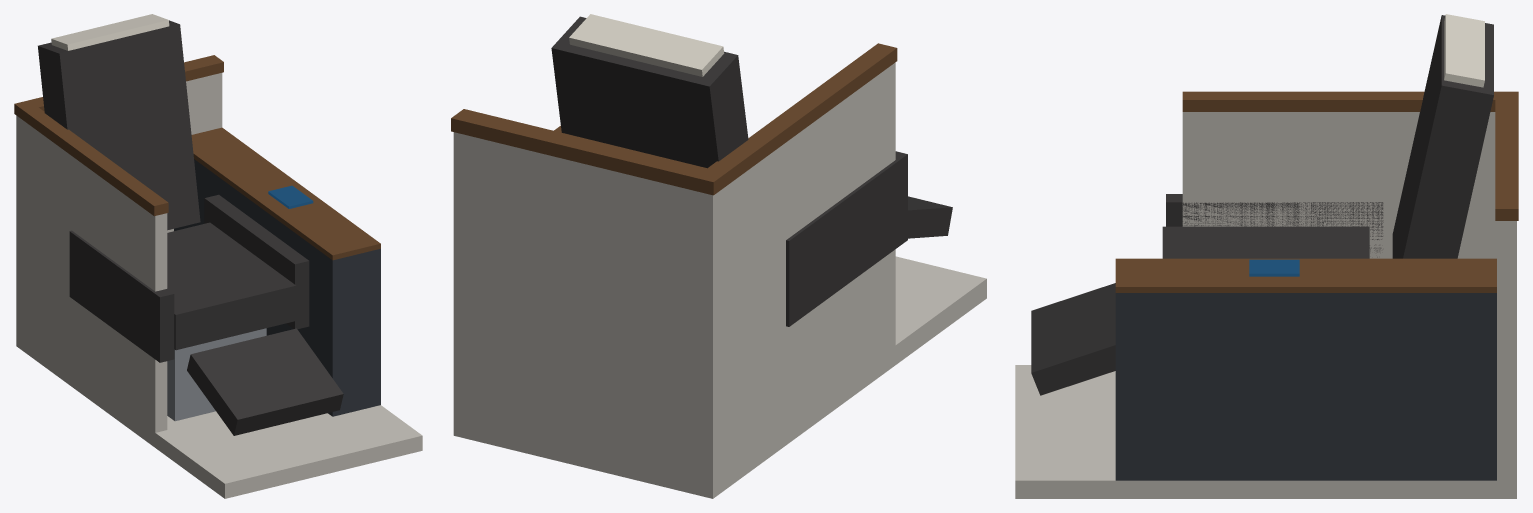
File: ac_business_seat.glb
3 views of the same model, side by side, from view 1: azimuth 30°, elevation 25°; view 2: azimuth 150°, elevation 25°; view 3: azimuth 270°, elevation 25° (orthographic). The views are drawn at different scales.
Visible parts, largest first — view 1: ac_business_seat; view 2: ac_business_seat; view 3: ac_business_seat.
Boxes of the visible parts, box(x1,y1,x2,y2) form: ac_business_seat: box(14, 14, 422, 498); ac_business_seat: box(451, 14, 986, 498); ac_business_seat: box(1015, 14, 1518, 498).
Bounding box in the file's own units: 0.835 × 1.26 × 1.5.
